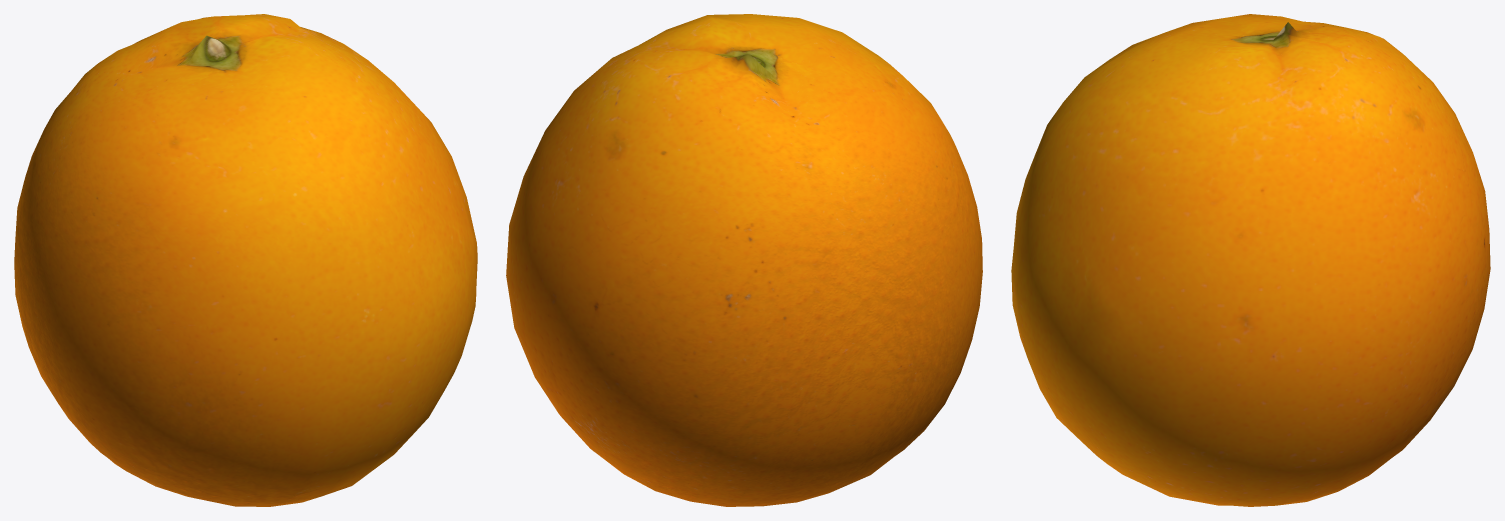
Rendered from Orange.fbx.
3 renders of one model, left to right at view 1: azimuth 30°, elevation 25°; view 2: azimuth 150°, elevation 25°; view 3: azimuth 270°, elevation 25°, orthographic. The views are drawn at different scales.
Parts seen in each view (by area): view 1: Orange; view 2: Orange; view 3: Orange.
Boxes of the visible parts, x1,y1,x2,y2 form: Orange: [14, 14, 477, 506]; Orange: [506, 14, 982, 506]; Orange: [1011, 14, 1490, 506].
Size of the model in its own units: 4.86 by 4.95 by 4.86.
